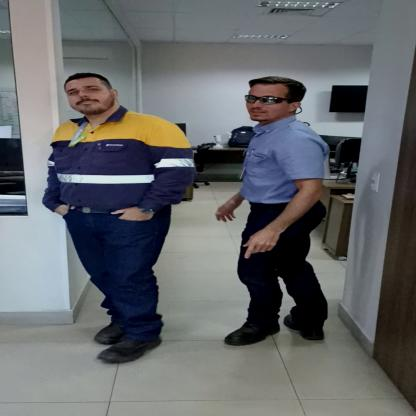Operacional: (41, 116, 200, 214)
